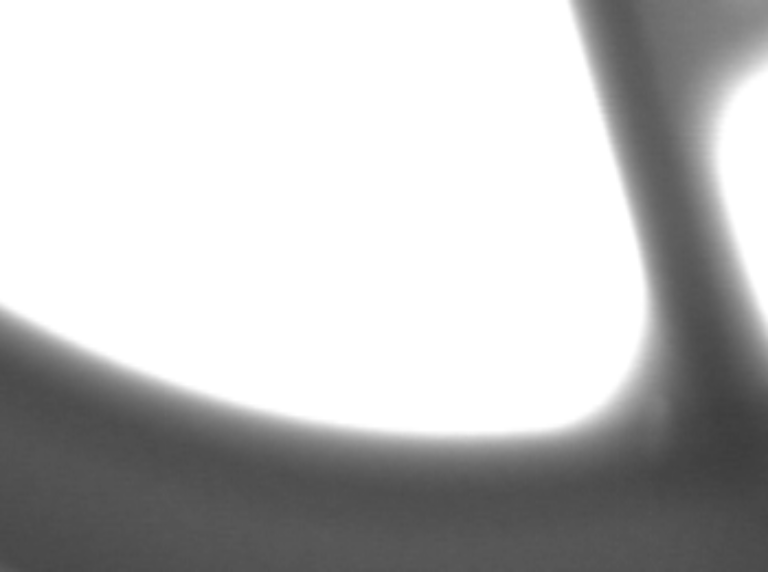defect: (647, 398, 682, 455)
